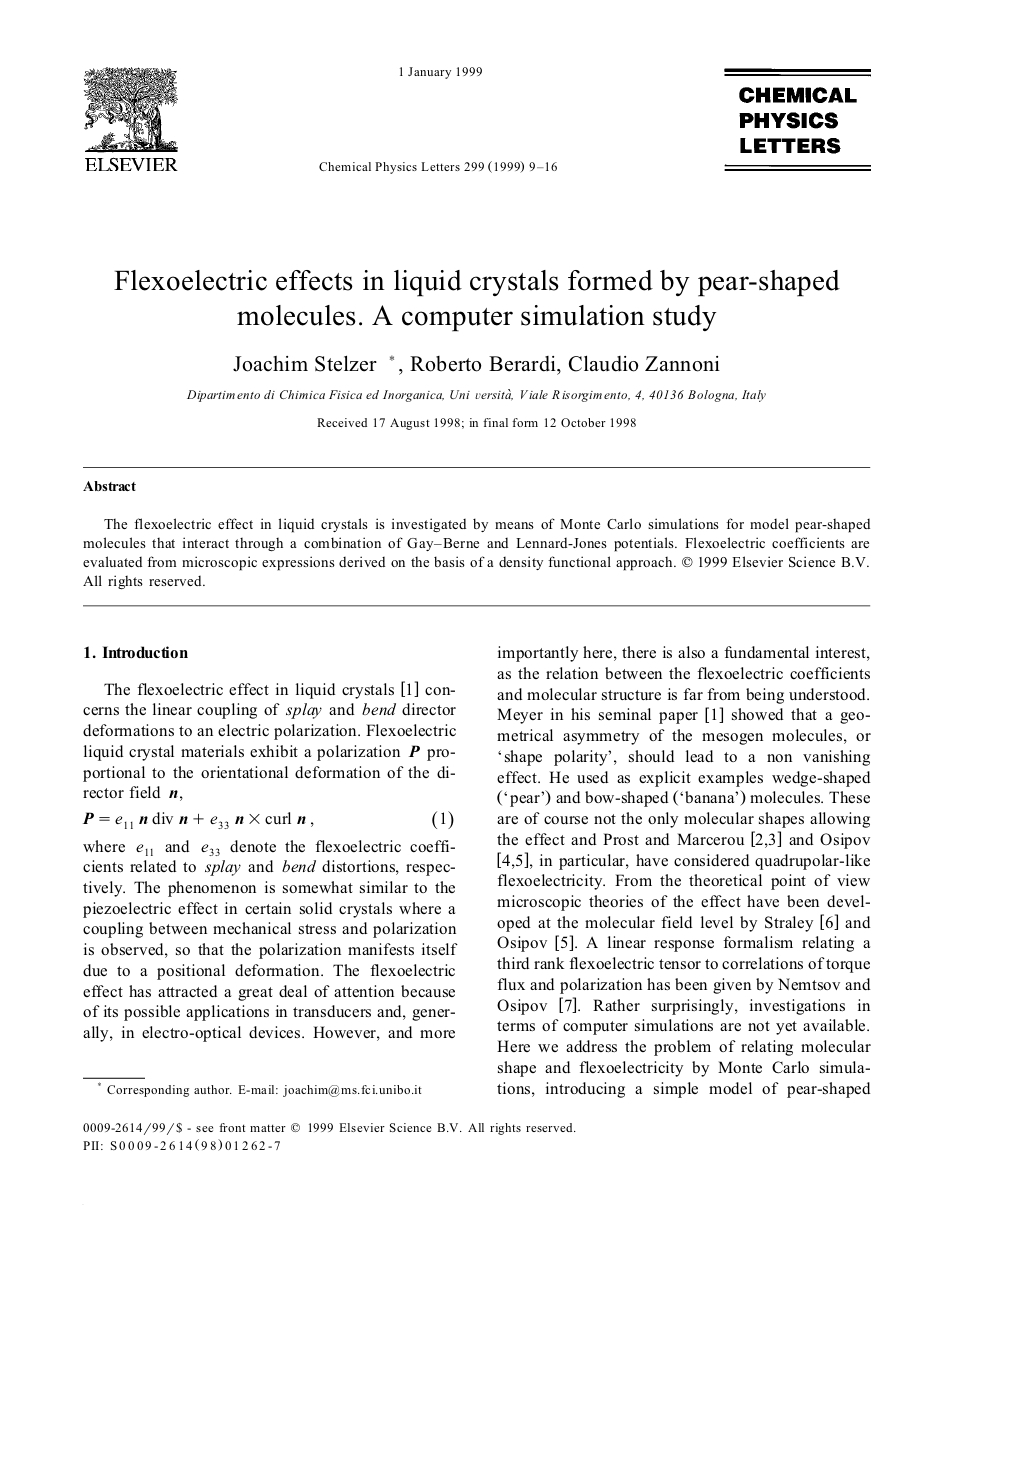figure: (83, 67, 177, 152)
formula: (81, 810, 453, 830)
